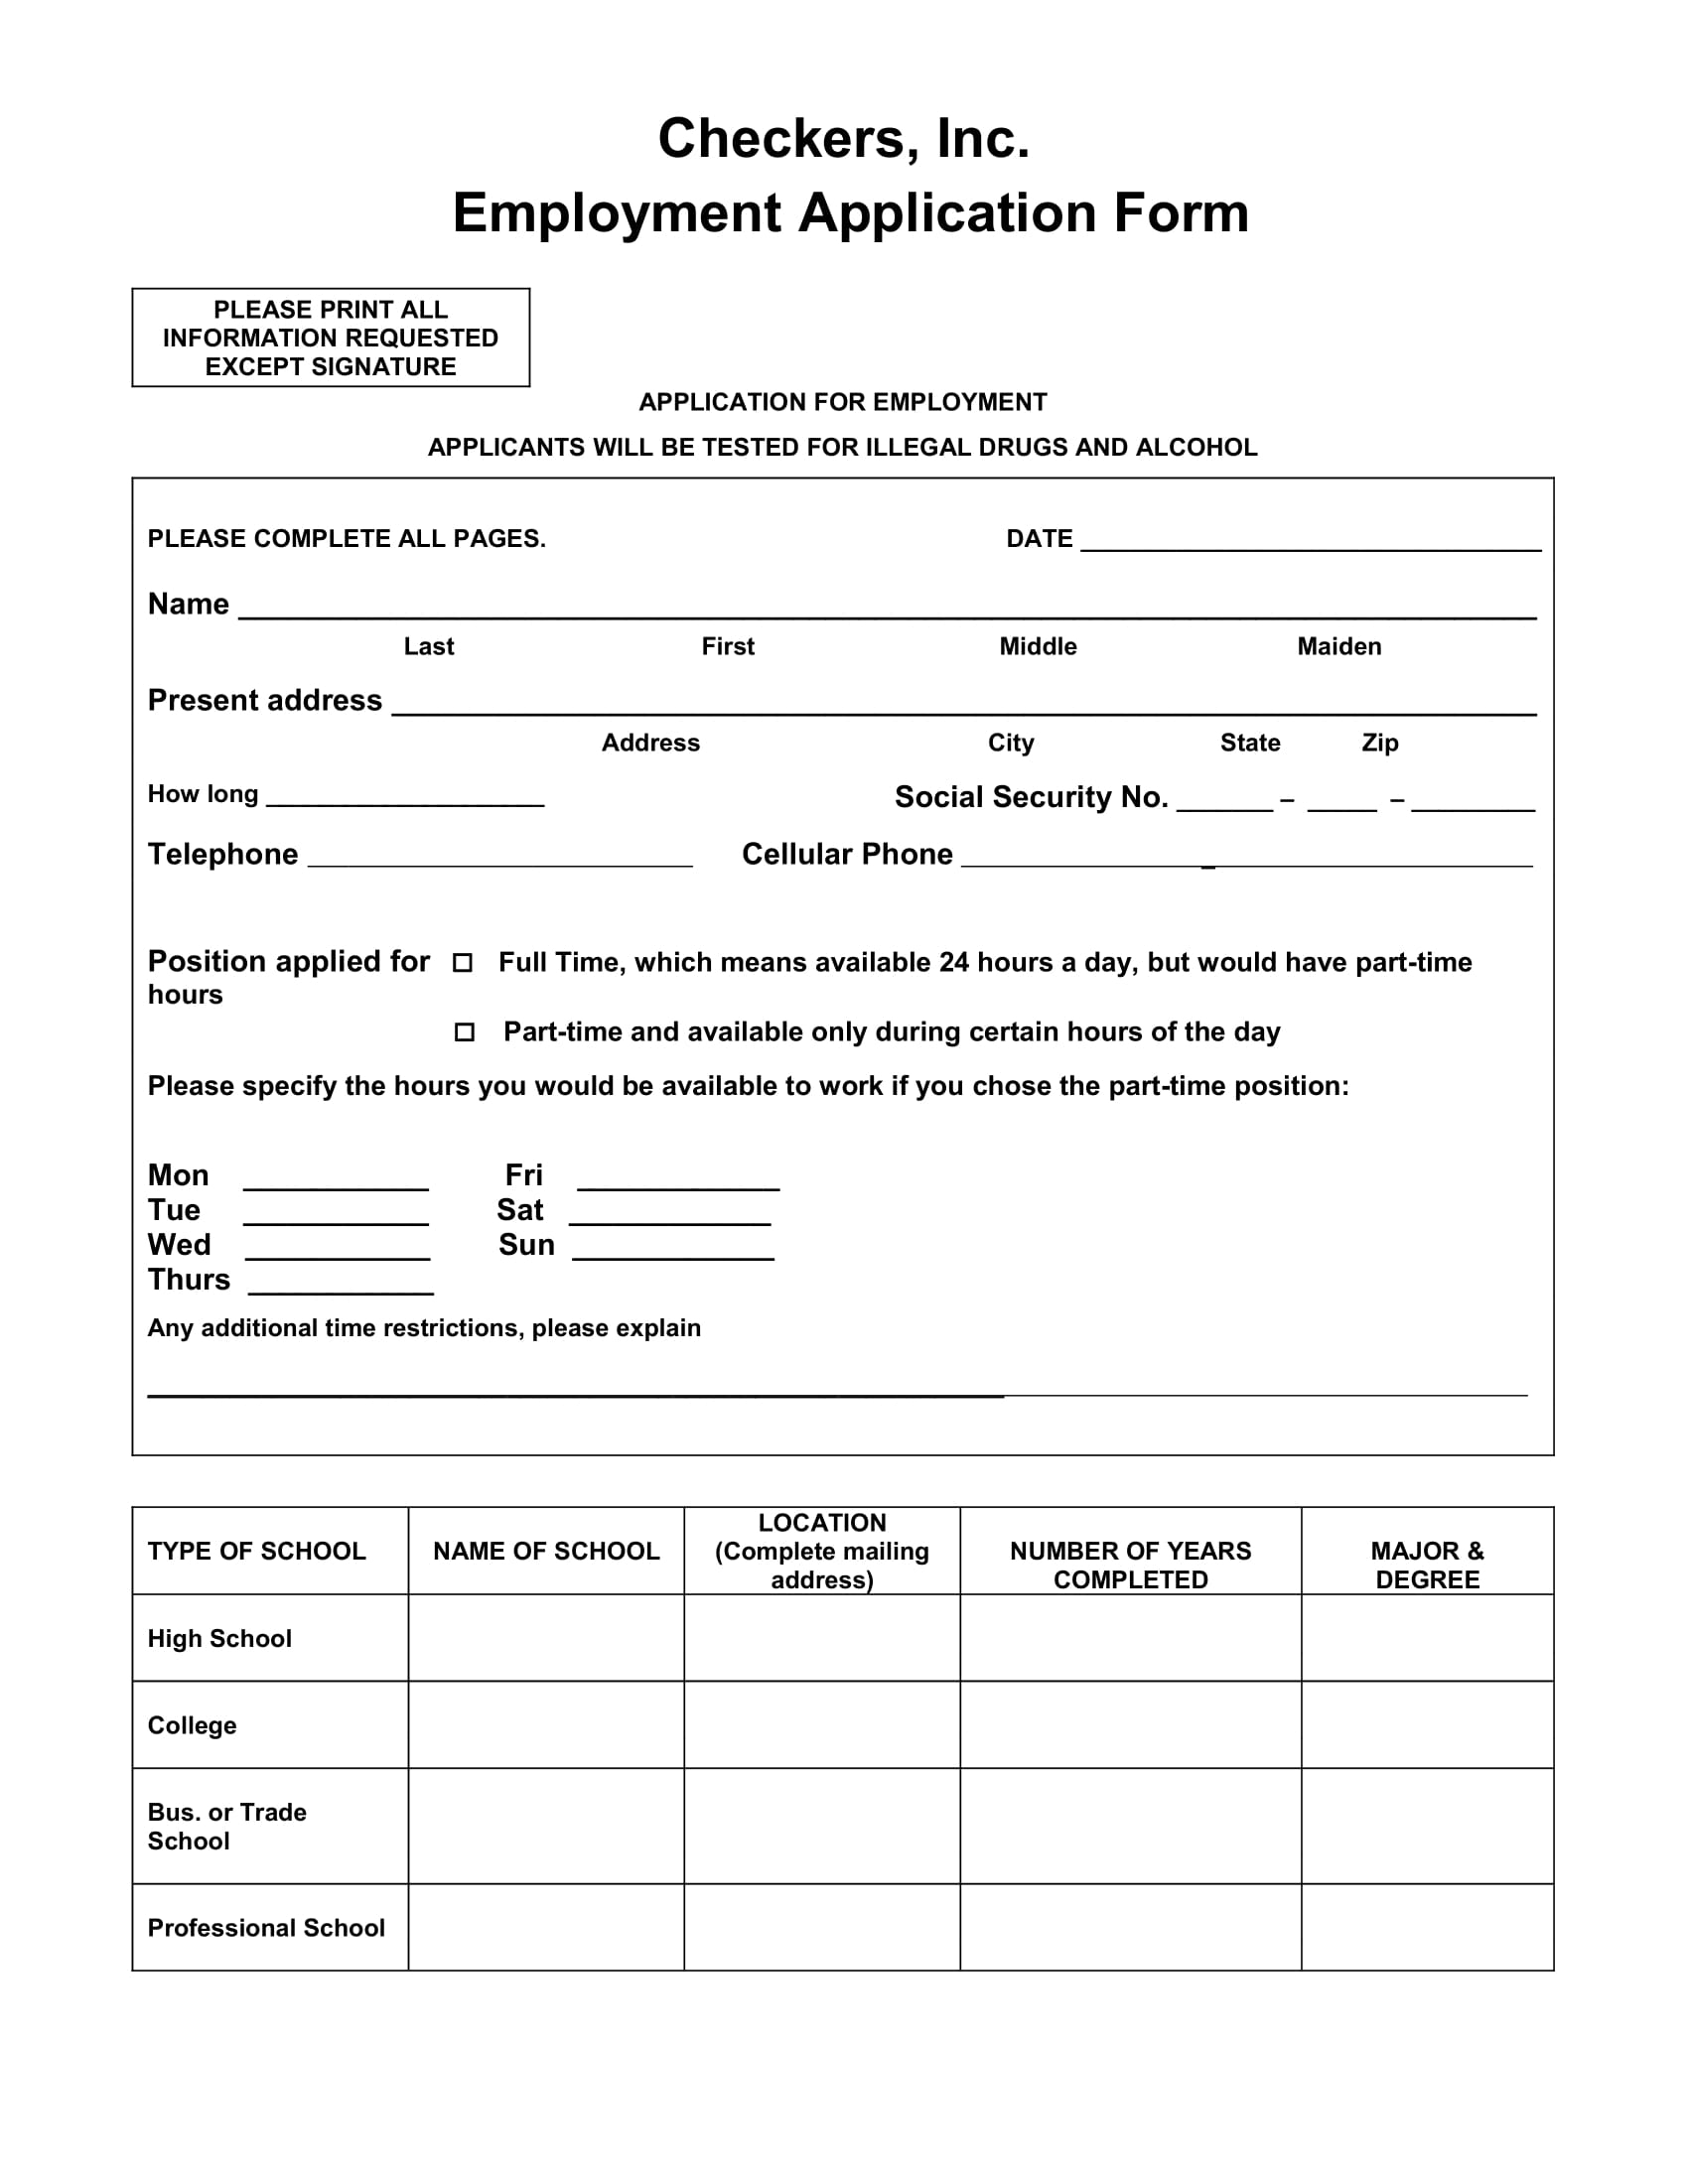table: (131, 479, 1553, 1457), (133, 1507, 1551, 1968)
